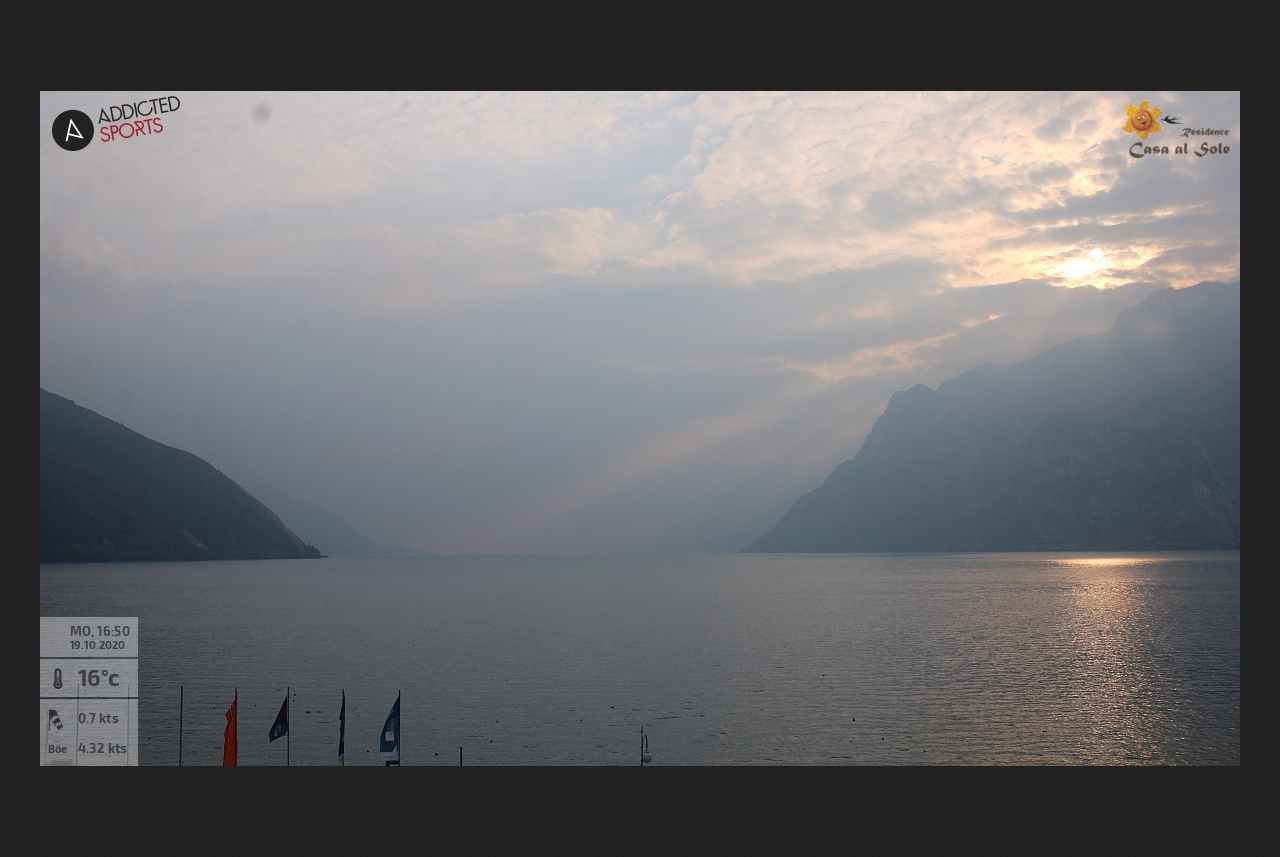maybe: (265, 696, 290, 743)
